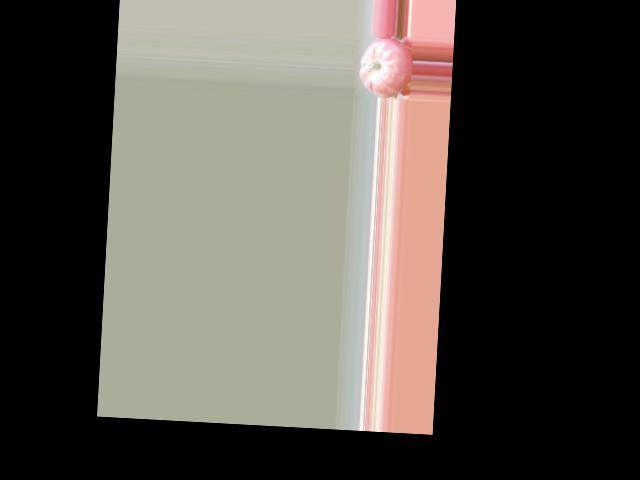tomato: (358, 37, 414, 99)
